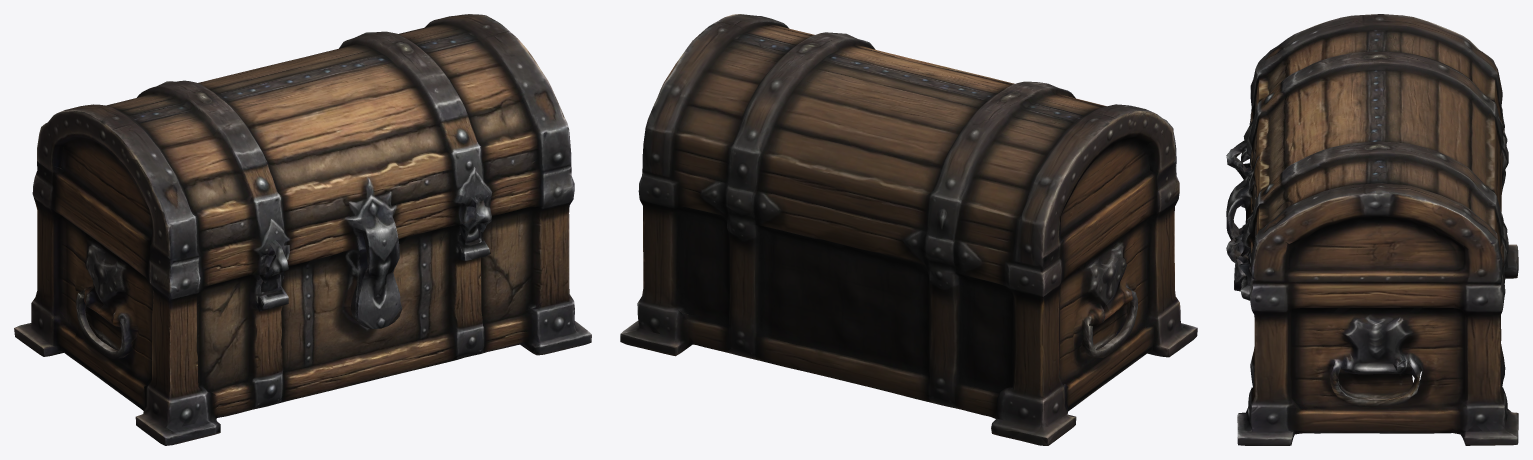
File: obj_chest.glb
The picture shows the model from 3 angles, left to right: view 1: azimuth 30°, elevation 25°; view 2: azimuth 150°, elevation 25°; view 3: azimuth 270°, elevation 25°; orthographic projection. The views are drawn at different scales.
Visible parts, largest first — view 1: Chest; view 2: Chest; view 3: Chest.
Part boxes in pixels (x1,y1,x2,y2): Chest: (14,14,591,445); Chest: (620,14,1197,445); Chest: (1226,14,1518,445).
Bounding box in the file's own units: 2 × 1.21 × 1.28.
1 material, 1 textured.
